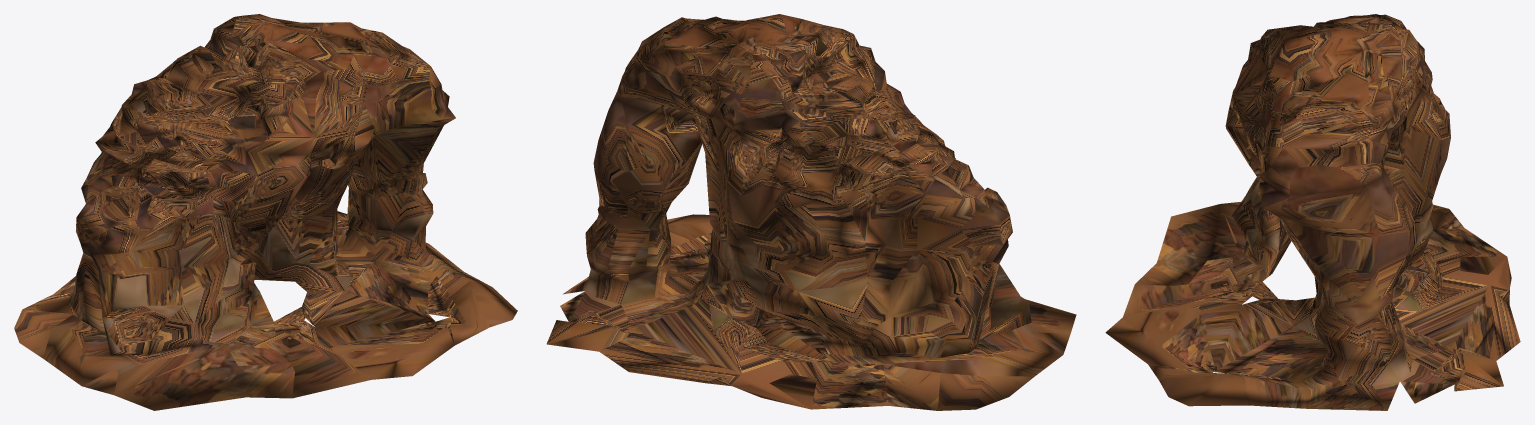
Rendered from Elephant_Rock_Formati.glb.
3 renders of one model, left to right at view 1: azimuth 30°, elevation 25°; view 2: azimuth 150°, elevation 25°; view 3: azimuth 270°, elevation 25°, orthographic. The views are drawn at different scales.
Visible parts, largest first — view 1: Elephant_Rock_Formati; view 2: Elephant_Rock_Formati; view 3: Elephant_Rock_Formati.
Part boxes in pixels (left/top/right/bottom): Elephant_Rock_Formati: left=14, top=14, right=517, bottom=410; Elephant_Rock_Formati: left=546, top=14, right=1076, bottom=410; Elephant_Rock_Formati: left=1105, top=14, right=1520, bottom=410.
Size of the model in its own units: 1.87 by 1.2 by 1.53.
Materials: 1 (1 with a texture image).
